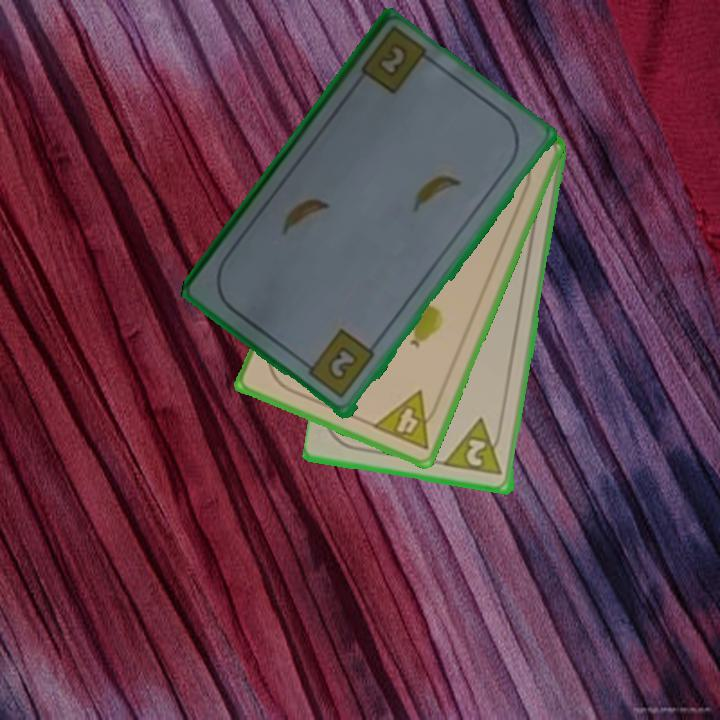2b: (300, 326, 378, 402), (373, 43, 408, 81)
2p: (443, 415, 507, 479)
4p: (369, 387, 444, 454)
